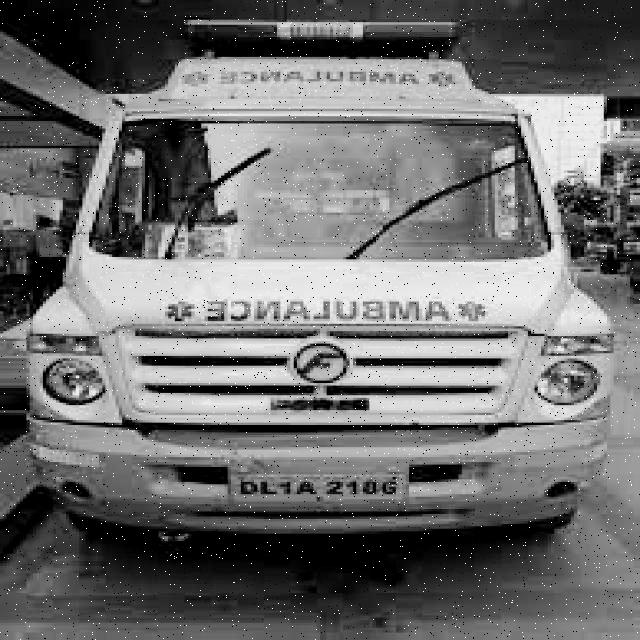LCV: (13, 20, 617, 544)
